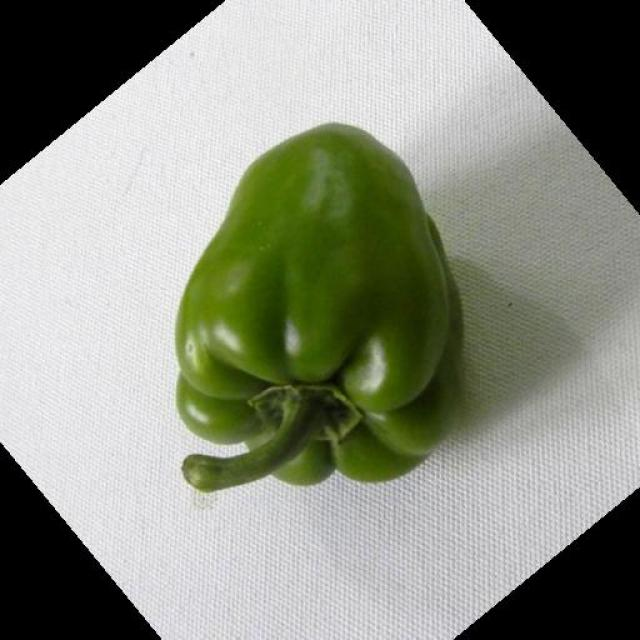Fresh_Capsicum: (178, 121, 478, 517)
